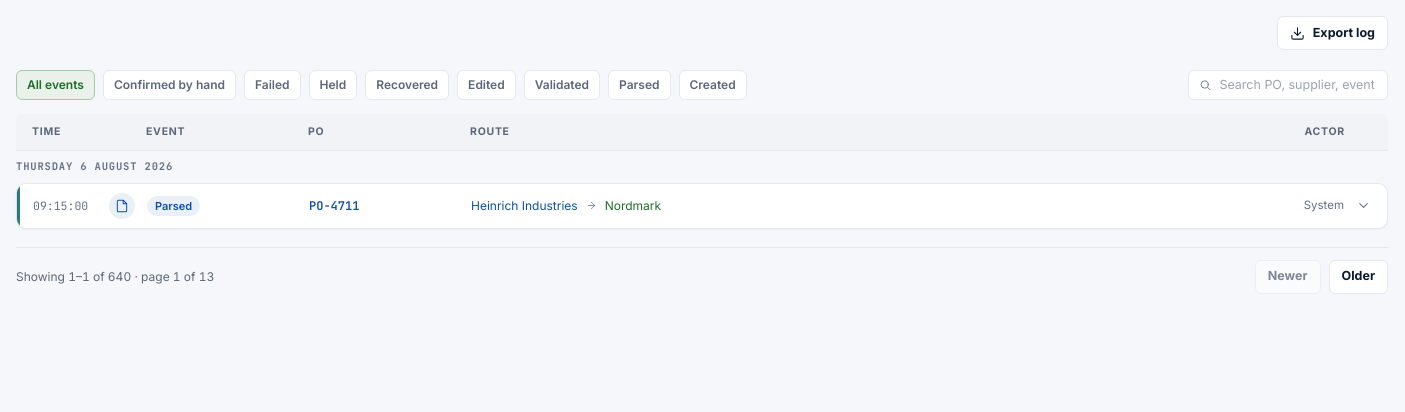
Test: CrossingsLog — the org's history past the first page › keeps the pager on screen when the filter empties the page
This screenshot has width=1405, height=412.
Check: the text "PO-4711" is shown, box [309, 198, 359, 214]
What coordinates should you click on to do the following:
click the button "Failed"
I would click on:
 (272, 85)
Its box is [244, 70, 301, 100].
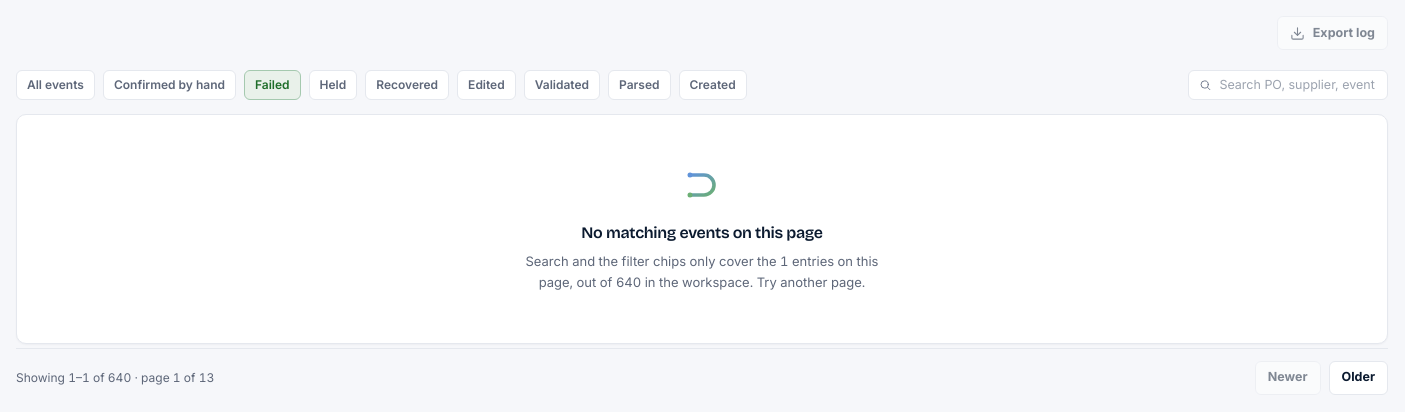
Check: the navigation bar named "Delivery log pages" is shown, box [16, 348, 1388, 395]
Check: the text "No matching events on this page" is shown, box [581, 221, 823, 245]
